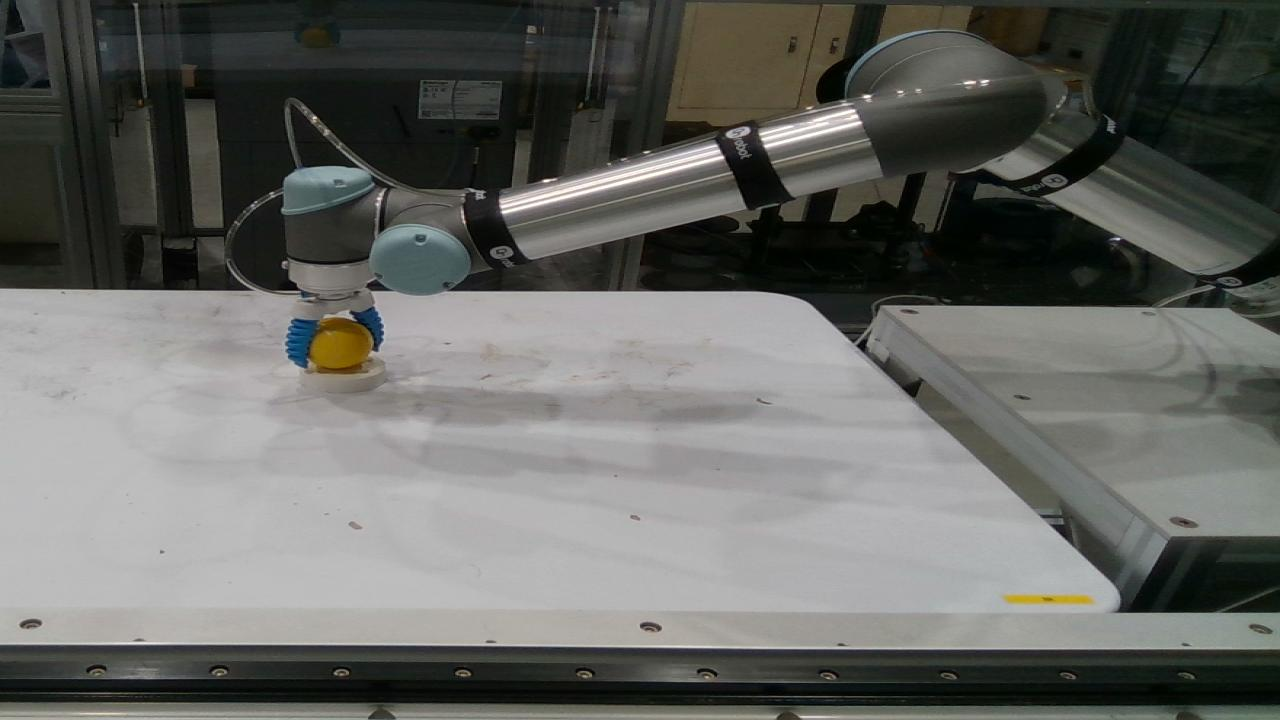UR5: (276, 27, 1278, 335)
gripper_left: (352, 306, 385, 352)
gripper_right: (285, 318, 318, 369)
target: (299, 351, 388, 394), (300, 317, 375, 368)
